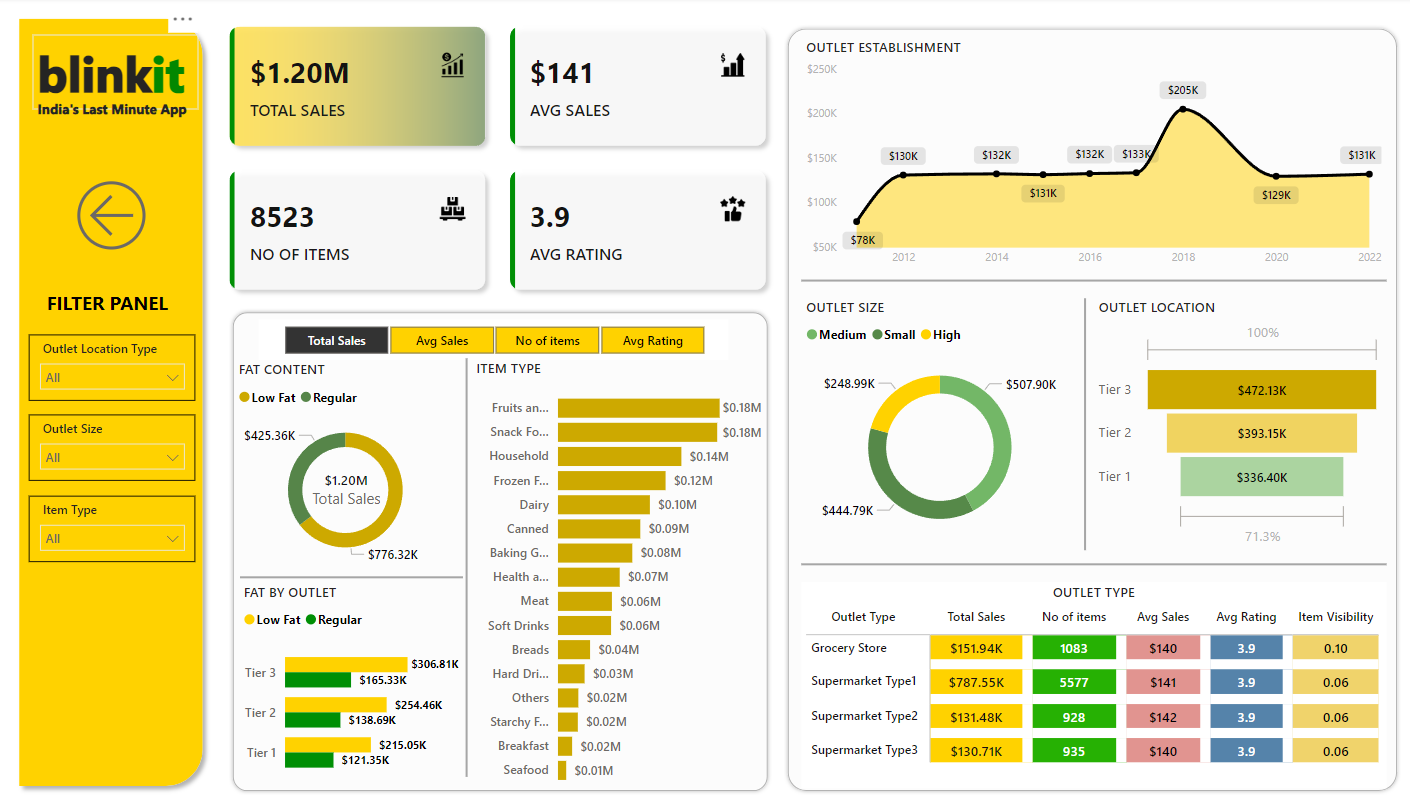

What the dashboard file says about the page in this screenshot:
{"tool":"powerbi","page":{"name":"Page 1","canvas":[1400,800],"ordinal":0},"visuals":[{"type":"shape","box":[775.9,27,610.9,762.4],"z":0},{"type":"shape","box":[10.5,12,199.6,777.4],"z":1000},{"type":"textbox","box":[32.2,37.5,164.9,73.7],"z":2000},{"type":"textbox","box":[32.2,96.5,167.6,29.5],"z":3000},{"type":"cardVisual","fields":{"Data":["BlinkIT Grocery Data.Total Sales","BlinkIT Grocery Data.Avg Sales","BlinkIT Grocery Data.No of items","BlinkIT Grocery Data.Avg Rating"]},"box":[210.1,12,565.8,295.7],"z":4000},{"type":"shape","box":[226.6,307.7,537.3,481.8],"z":5000},{"type":"donutChart","title":"FAT CONTENT","fields":{"Y":["BlinkIT Grocery Data.Total Sales"],"Category":["BlinkIT Grocery Data.Item Fat Content"]},"box":[231.9,359.3,221.2,213.1],"z":6000},{"type":"slicer","fields":{"Values":["Metrics.Metrics"]},"box":[256,319,465.1,40.2],"z":7000},{"type":"clusteredBarChart","title":"FAT BY OUTLET","fields":{"Y":["BlinkIT Grocery Data.Total Sales"],"Category":["BlinkIT Grocery Data.Outlet Location Type"],"Series":["BlinkIT Grocery Data.Item Fat Content"]},"box":[235.9,579.1,222.5,206.4],"z":8000},{"type":"cardVisual","fields":{"Data":["BlinkIT Grocery Data.Total Sales"]},"box":[285.2,451.8,114.1,69],"z":9000},{"type":"shape","box":[237.1,568.8,220.6,10.5],"z":10000},{"type":"shape","box":[453.3,357.2,18,414.2],"z":11000},{"type":"barChart","title":"ITEM TYPE","fields":{"Y":["BlinkIT Grocery Data.Total Sales"],"Category":["BlinkIT Grocery Data.Item Type"]},"box":[466.8,357.2,292.7,432.2],"z":12000},{"type":"lineChart","title":"OUTLET ESTABLISHMENT","fields":{"Y":["BlinkIT Grocery Data.Total Sales"],"Category":["BlinkIT Grocery Data.Outlet Establishment Year"]},"box":[792.5,39,579.3,235.6],"z":13000},{"type":"shape","box":[792.5,274.7,579.3,12],"z":14000},{"type":"donutChart","title":"OUTLET SIZE","fields":{"Y":["BlinkIT Grocery Data.Total Sales"],"Category":["BlinkIT Grocery Data.Outlet Size"]},"box":[792.5,297.2,274.7,252.1],"z":15000},{"type":"shape","box":[1064.3,297.6,17.4,249.3],"z":16000},{"type":"funnel","title":"OUTLET LOCATION","fields":{"Y":["BlinkIT Grocery Data.Total Sales"],"Category":["BlinkIT Grocery Data.Outlet Location Type"]},"box":[1082.1,297.2,289.7,252.1],"z":17000},{"type":"shape","box":[792.5,555.3,579.3,12],"z":18000},{"type":"pivotTable","title":"OUTLET TYPE","fields":{"Rows":["BlinkIT Grocery Data.Outlet Type"],"Values":["BlinkIT Grocery Data.Total Sales","BlinkIT Grocery Data.No of items","BlinkIT Grocery Data.Avg Sales","BlinkIT Grocery Data.Avg Rating","Avg(BlinkIT Grocery Data.Item Visibility)"]},"box":[792.5,579.3,579.3,204.1],"z":19000},{"type":"slicer","fields":{"Values":["BlinkIT Grocery Data.Outlet Location Type"]},"box":[28.2,333.8,164.9,65.7],"z":20000},{"type":"slicer","fields":{"Values":["BlinkIT Grocery Data.Outlet Size"]},"box":[28.2,412.9,164.9,65.7],"z":20001},{"type":"slicer","fields":{"Values":["BlinkIT Grocery Data.Item Type"]},"box":[28.2,493.3,164.9,65.7],"z":20002},{"type":"textbox","box":[20.1,284.2,172.9,34.9],"z":20003},{"type":"actionButton","box":[68.4,170.2,84.5,91.2],"z":20004}]}

Visuals, with their boxes in screenshot pixels (x1, y1, x2, y2), scaled from the page's 1400x800 canvas onto the 1410x803 screenshot:
shape: locate(781, 27, 1397, 792)
shape: locate(11, 12, 212, 792)
textbox: locate(32, 38, 199, 112)
textbox: locate(32, 97, 201, 126)
cardVisual - BlinkIT Grocery Data.Total Sales x BlinkIT Grocery Data.Avg Sales: locate(212, 12, 781, 309)
shape: locate(228, 309, 769, 792)
"FAT CONTENT" donutChart: locate(234, 361, 456, 575)
slicer - Metrics.Metrics: locate(258, 320, 726, 361)
"FAT BY OUTLET" clusteredBarChart: locate(238, 581, 462, 788)
cardVisual - BlinkIT Grocery Data.Total Sales: locate(287, 453, 402, 523)
shape: locate(239, 571, 461, 581)
shape: locate(457, 359, 475, 774)
"ITEM TYPE" barChart: locate(470, 359, 765, 792)
"OUTLET ESTABLISHMENT" lineChart: locate(798, 39, 1382, 276)
shape: locate(798, 276, 1382, 288)
"OUTLET SIZE" donutChart: locate(798, 298, 1075, 551)
shape: locate(1072, 299, 1089, 549)
"OUTLET LOCATION" funnel: locate(1090, 298, 1382, 551)
shape: locate(798, 557, 1382, 569)
"OUTLET TYPE" pivotTable: locate(798, 581, 1382, 786)
slicer - BlinkIT Grocery Data.Outlet Location Type: locate(28, 335, 194, 401)
slicer - BlinkIT Grocery Data.Outlet Size: locate(28, 414, 194, 480)
slicer - BlinkIT Grocery Data.Item Type: locate(28, 495, 194, 561)
textbox: locate(20, 285, 194, 320)
actionButton: locate(69, 171, 154, 262)
